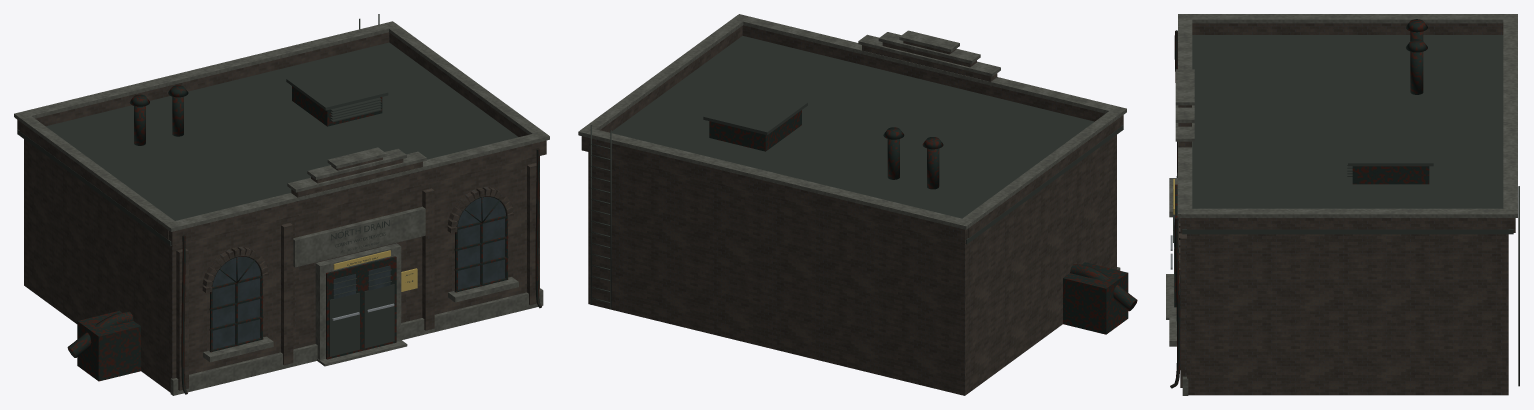
Rendered from pump-station.glb.
The picture shows the model from 3 angles, left to right: view 1: azimuth 30°, elevation 25°; view 2: azimuth 150°, elevation 25°; view 3: azimuth 270°, elevation 25°; orthographic projection. The views are drawn at different scales.
Parts seen in each view (by area): view 1: Civic pump hall masonry, Flat roof deck, Brick parapet, Raised damp course, Civic engraved sign, Parapet stone coping.001, Brick parapet.001, Arched industrial glass, Arched industrial glass.001, Side pump manifold enclosure, Parapet stone coping, Ventilator rain cap (+25 smaller); view 2: Civic pump hall masonry, Flat roof deck, Brick parapet.001, Parapet stone coping.001, Brick parapet, Side pump manifold enclosure, Parapet stone coping, Ventilator rain cap, End coping, End coping.001, End parapet, Roof ventilator base (+8 smaller); view 3: Civic pump hall masonry, Flat roof deck, End parapet.001, End parapet, End coping.001, End coping, Ventilator rain cap, Parapet stone coping.001, Parapet stone coping, Roof ventilator base, Projecting brick pilaster.003, Cast iron downpipe.001 (+7 smaller).
Part boxes in pixels (x1,y1,x2,y2): Civic pump hall masonry: [24, 139, 539, 392]; Flat roof deck: [17, 42, 518, 245]; Brick parapet: [169, 140, 546, 245]; Raised damp course: [170, 288, 543, 395]; Civic engraved sign: [293, 206, 425, 267]; Parapet stone coping.001: [14, 21, 397, 118]; Brick parapet.001: [17, 32, 389, 129]; Arched industrial glass: [212, 256, 260, 349]; Arched industrial glass.001: [457, 197, 505, 289]; Side pump manifold enclosure: [77, 310, 140, 381]; Parapet stone coping: [165, 131, 549, 231]; Ventilator rain cap: [286, 63, 388, 110]; Civic pump hall masonry: [588, 135, 1116, 395]; Flat roof deck: [611, 36, 1123, 244]; Brick parapet.001: [581, 136, 968, 243]; Parapet stone coping.001: [578, 129, 972, 229]; Brick parapet: [742, 25, 1123, 125]; Side pump manifold enclosure: [1063, 262, 1128, 334]; Parapet stone coping: [734, 14, 1126, 113]; Ventilator rain cap: [703, 87, 807, 134]; End coping: [957, 107, 1125, 228]; End coping.001: [580, 15, 747, 133]; End parapet: [968, 117, 1121, 237]; Roof ventilator base: [709, 110, 801, 151]; Civic pump hall masonry: [1187, 234, 1508, 395]; Flat roof deck: [1182, 35, 1513, 234]; End parapet.001: [1187, 218, 1508, 229]; End parapet: [1192, 23, 1503, 34]; End coping.001: [1181, 208, 1514, 217]; End coping: [1181, 14, 1514, 23]; Ventilator rain cap: [1348, 130, 1433, 166]; Parapet stone coping.001: [1503, 14, 1517, 217]; Parapet stone coping: [1178, 14, 1192, 217]; Roof ventilator base: [1352, 166, 1429, 184]; Projecting brick pilaster.003: [1180, 234, 1186, 387]; Cast iron downpipe.001: [1170, 217, 1180, 388].
Bounding box in the file's own units: 14.17 × 6.28 × 9.24.
Materials: 7 (4 with a texture image).
